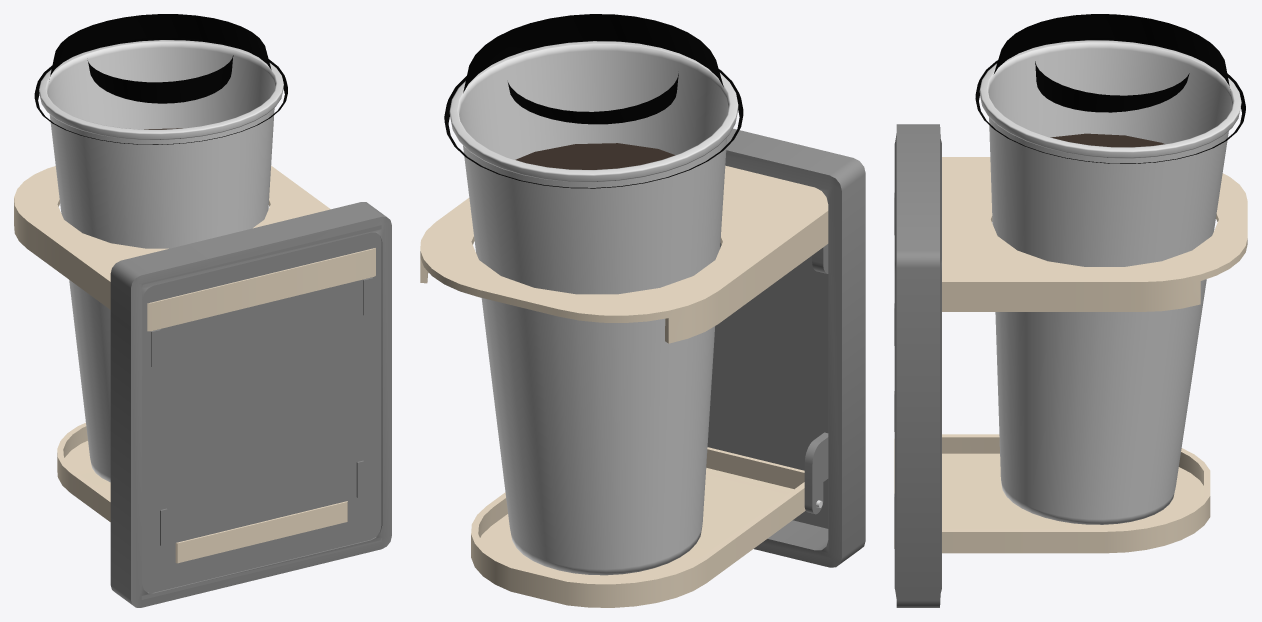
File: cup.glb
3 views of the same model, side by side, from view 1: azimuth 30°, elevation 25°; view 2: azimuth 150°, elevation 25°; view 3: azimuth 270°, elevation 25° (orthographic). The views are drawn at different scales.
Visible parts, largest first — view 1: cup_base, cup, cup_base_middle, cup_base_bottom; view 2: cup, cup_base, cup_base_middle, cup_base_bottom; view 3: cup, cup_base, cup_base_middle, cup_base_bottom.
Part boxes in pixels (left/top/right/bottom): cup_base: left=110, top=202, right=391, bottom=607; cup: left=34, top=14, right=287, bottom=482; cup_base_middle: left=14, top=165, right=375, bottom=331; cup_base_bottom: left=57, top=422, right=347, bottom=563; cup: left=444, top=14, right=743, bottom=575; cup_base: left=707, top=128, right=865, bottom=567; cup_base_middle: left=420, top=165, right=828, bottom=343; cup_base_bottom: left=471, top=447, right=805, bottom=607; cup: left=975, top=14, right=1245, bottom=524; cup_base: left=894, top=124, right=941, bottom=607; cup_base_middle: left=942, top=157, right=1247, bottom=311; cup_base_bottom: left=894, top=434, right=1210, bottom=553.
Bounding box in the file's own units: 0.0981 × 0.1636 × 0.1075.
